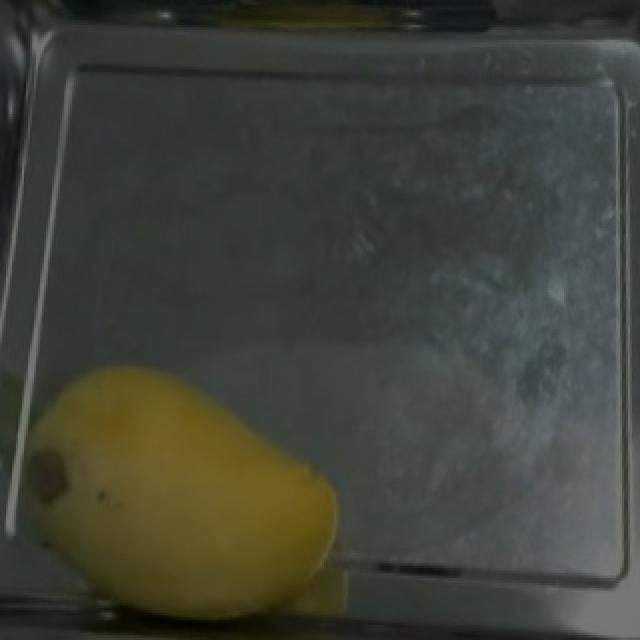fruit: (26, 335, 368, 640)
